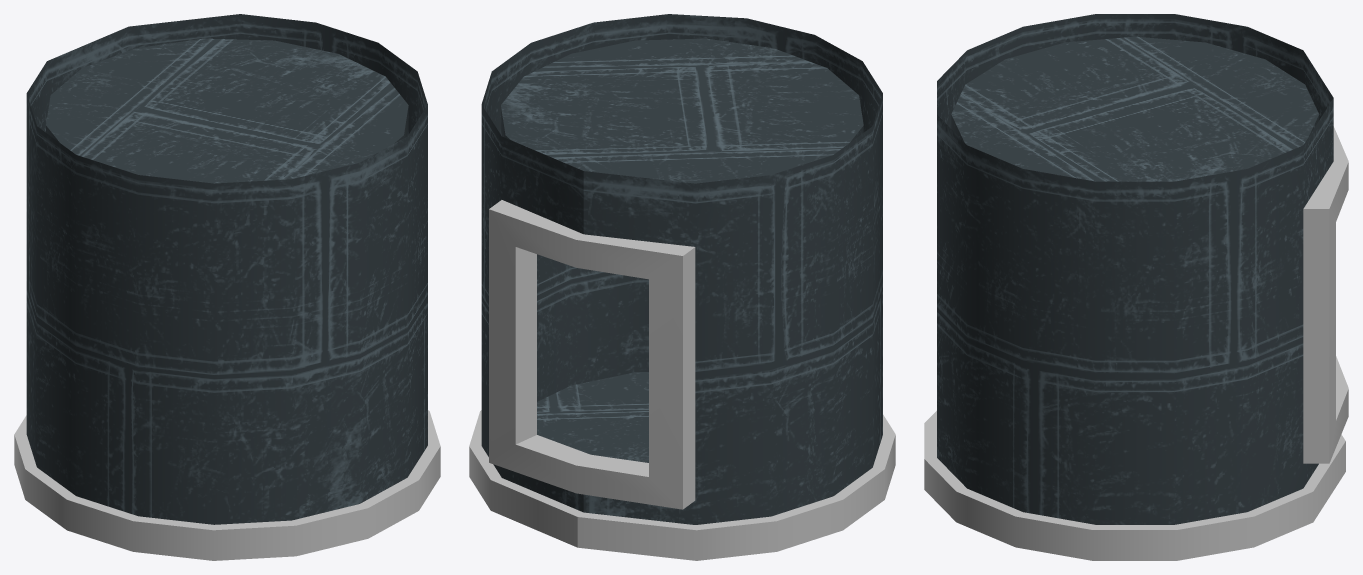
File: towerPeaceWOpening.fbx
The picture shows the model from 3 angles, left to right: view 1: azimuth 30°, elevation 25°; view 2: azimuth 150°, elevation 25°; view 3: azimuth 270°, elevation 25°; orthographic projection.
Visible parts, largest first — view 1: Cylinder.002; view 2: Cylinder.002; view 3: Cylinder.002.
Part boxes in pixels (left/top/right/bottom): Cylinder.002: left=14, top=14, right=440, bottom=560; Cylinder.002: left=469, top=14, right=895, bottom=560; Cylinder.002: left=924, top=14, right=1348, bottom=560.
Bounding box in the file's own units: 474 × 464 × 477.
